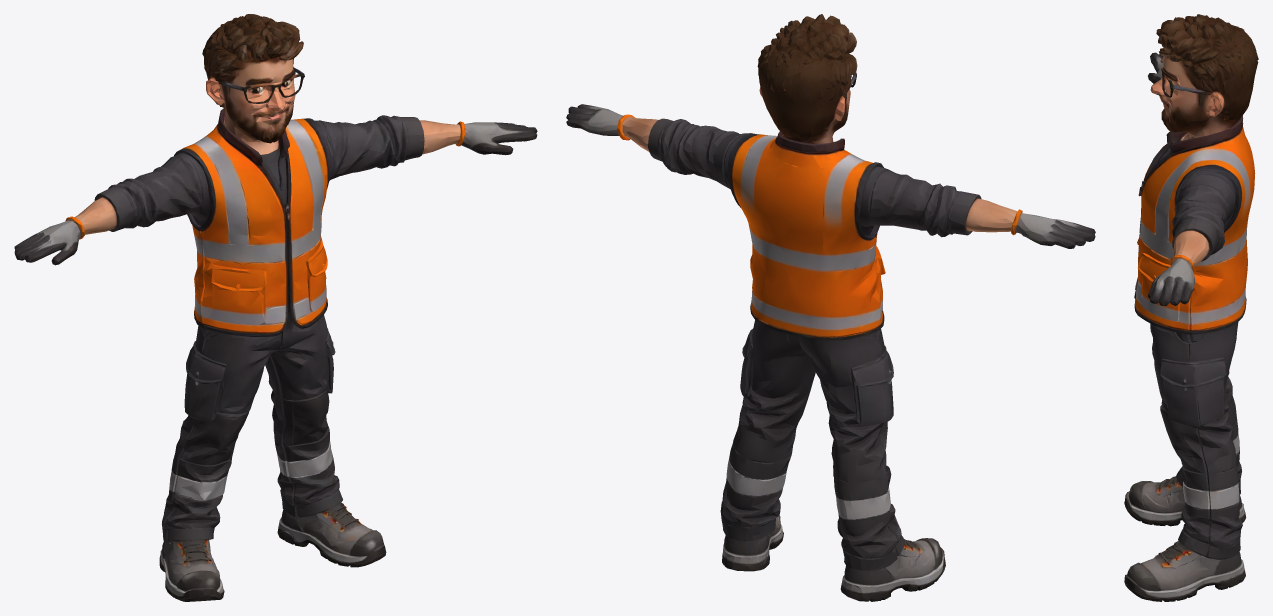
File: cleaner.glb
3 views of the same model, side by side, from view 1: azimuth 30°, elevation 25°; view 2: azimuth 150°, elevation 25°; view 3: azimuth 270°, elevation 25° (orthographic). The views are drawn at different scales.
Parts seen in each view (by area): view 1: model; view 2: model; view 3: model.
Boxes of the visible parts, x1,y1,x2,y2 form: model: (14,14,537,601); model: (566,14,1095,601); model: (1124,14,1258,601).
Size of the model in its own units: 1.9 by 1.9 by 0.4298.
1 material, 1 textured.
